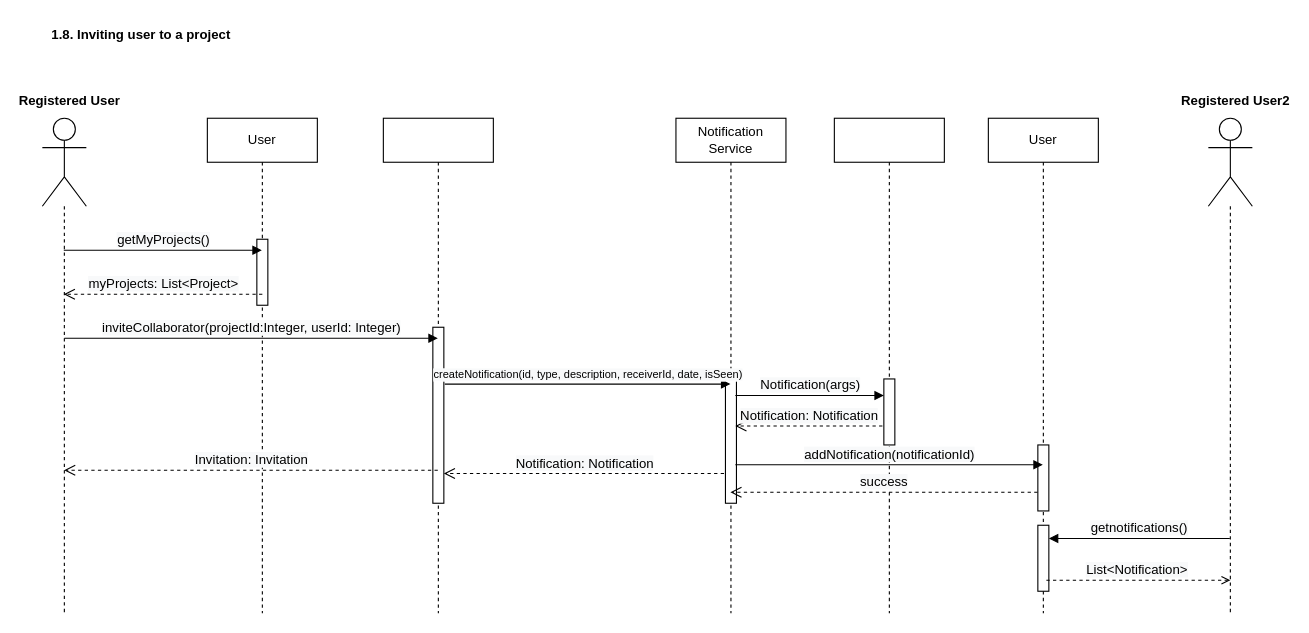
This 1309x633 diagram has some shape labels left out. The centre of each missing label's shape, as x and y in pixels:
InvitationService: the point at 437,365
Notification: the point at 888,365
